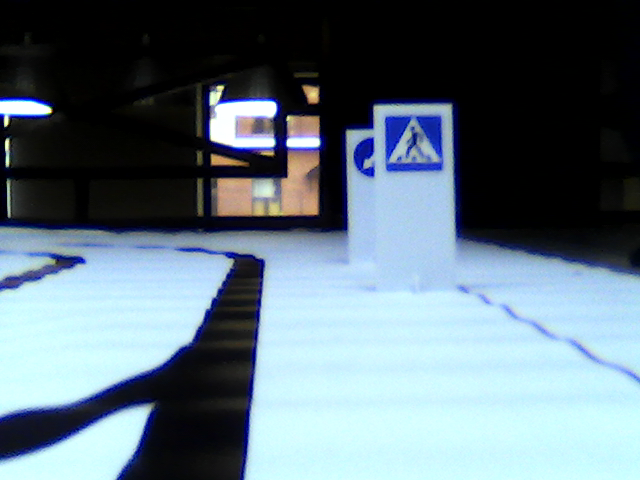pesh: (385, 116, 439, 170)
